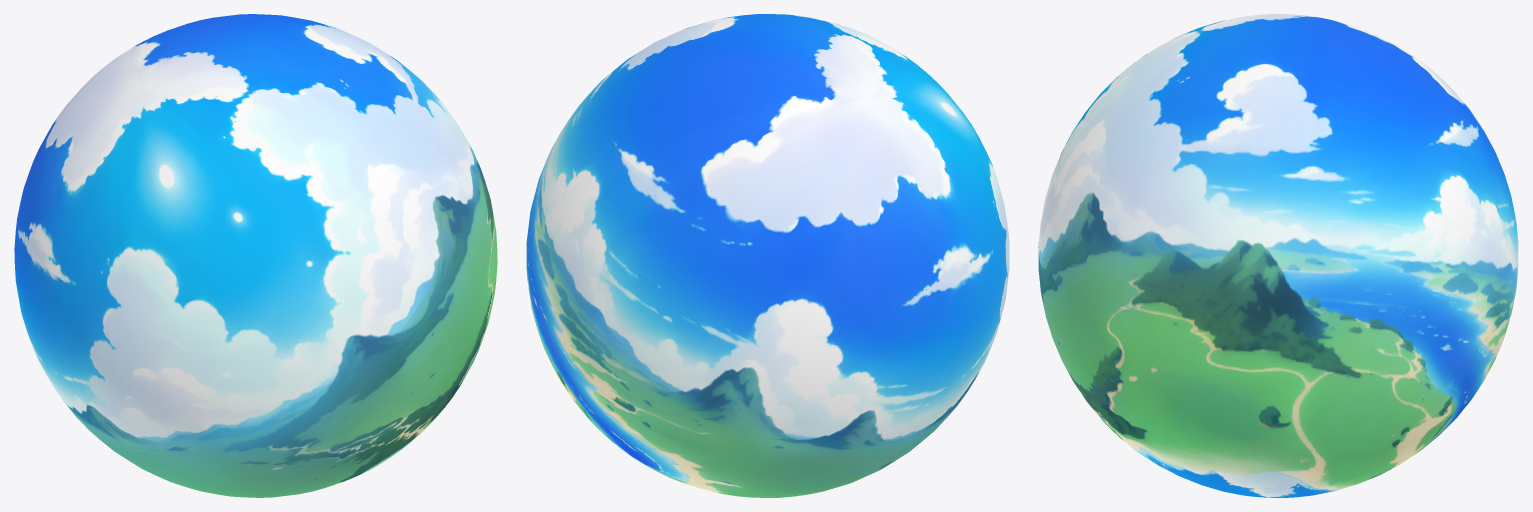
File: SkyGlobe.glb
The picture shows the model from 3 angles, left to right: view 1: azimuth 30°, elevation 25°; view 2: azimuth 150°, elevation 25°; view 3: azimuth 270°, elevation 25°; orthographic projection.
Visible parts, largest first — view 1: Sphere; view 2: Sphere; view 3: Sphere.
Part boxes in pixels (x1,y1,x2,y2): Sphere: [14, 14, 497, 497]; Sphere: [526, 14, 1009, 497]; Sphere: [1038, 14, 1518, 497].
Bounding box in the file's own units: 1.97 × 1.98 × 1.97.
Materials: 1 (1 with a texture image).
